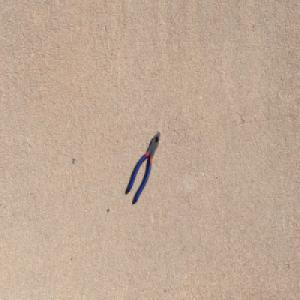Pliers: (125, 130, 160, 204)
